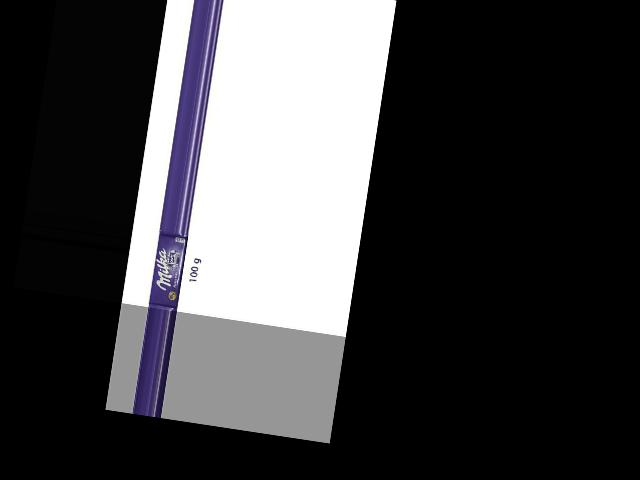chocolate: (148, 229, 194, 310)
